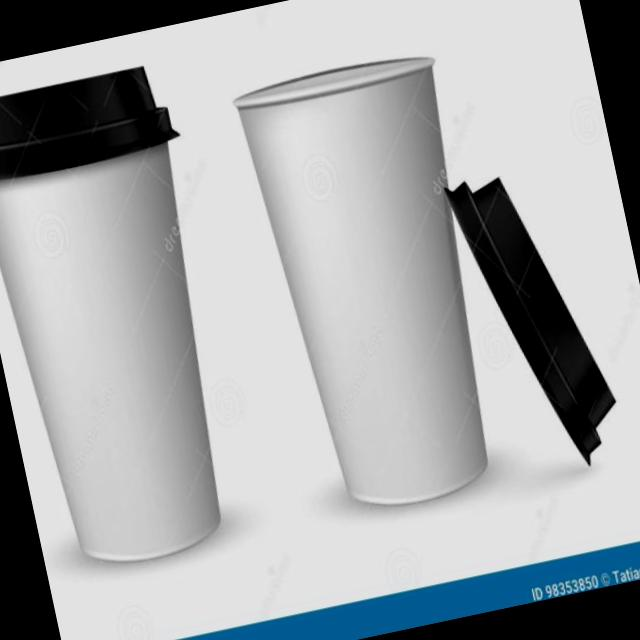trash: (228, 43, 526, 526), (0, 54, 266, 584)
